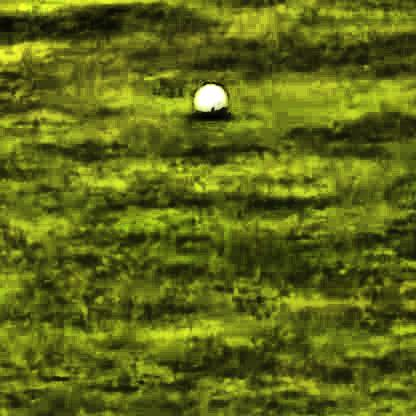golfball: (192, 80, 222, 113)
